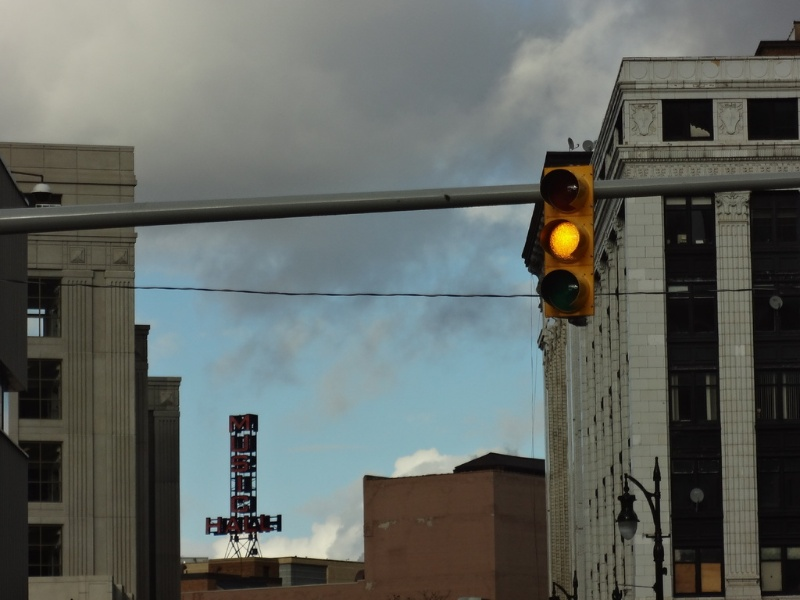yellow_light: (537, 214, 592, 266)
